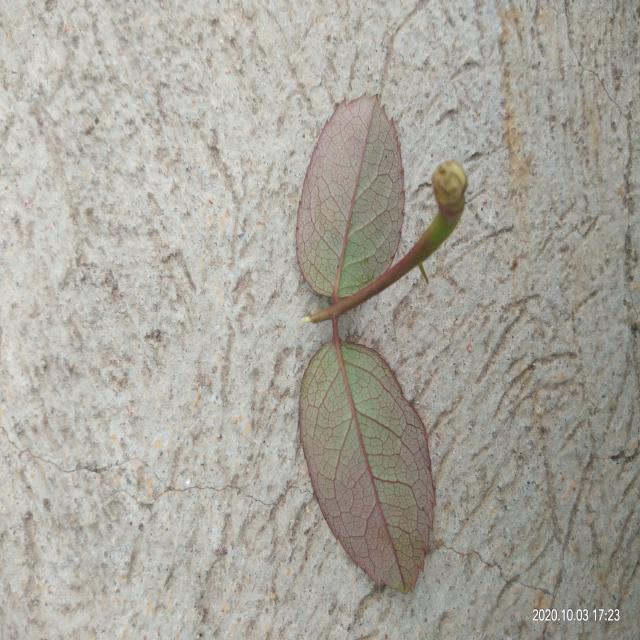rose: (296, 95, 434, 593)
